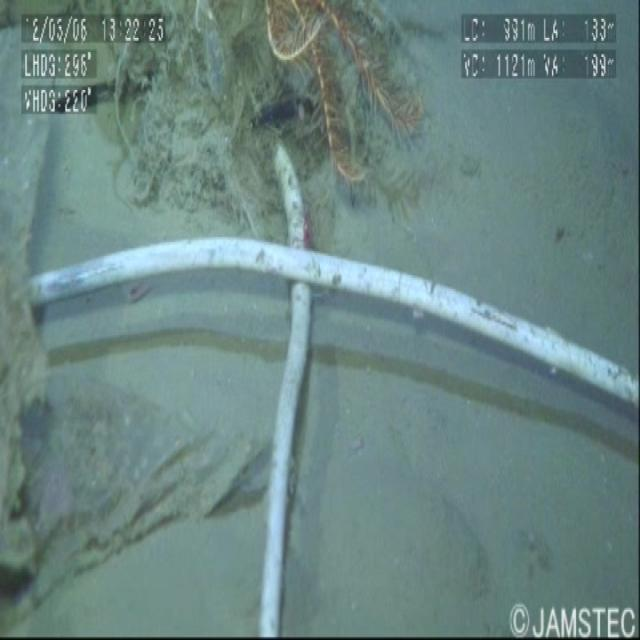Wood: (10, 212, 640, 446), (233, 70, 328, 640)
